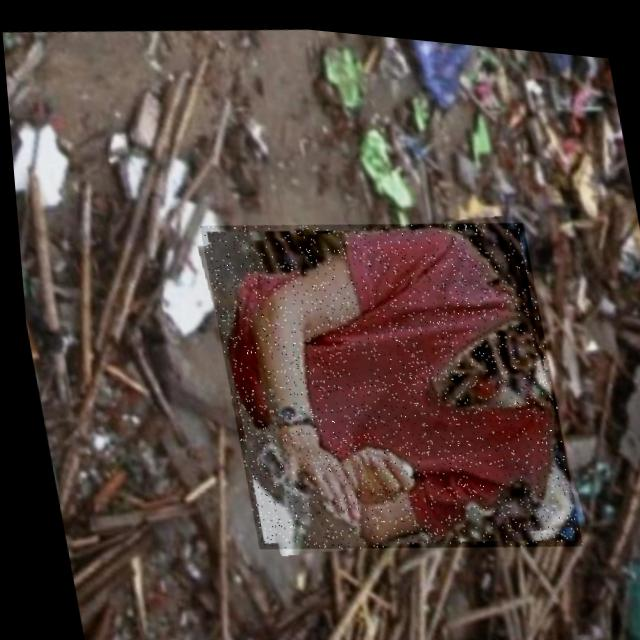Person in Rubble: (193, 187, 575, 570)
